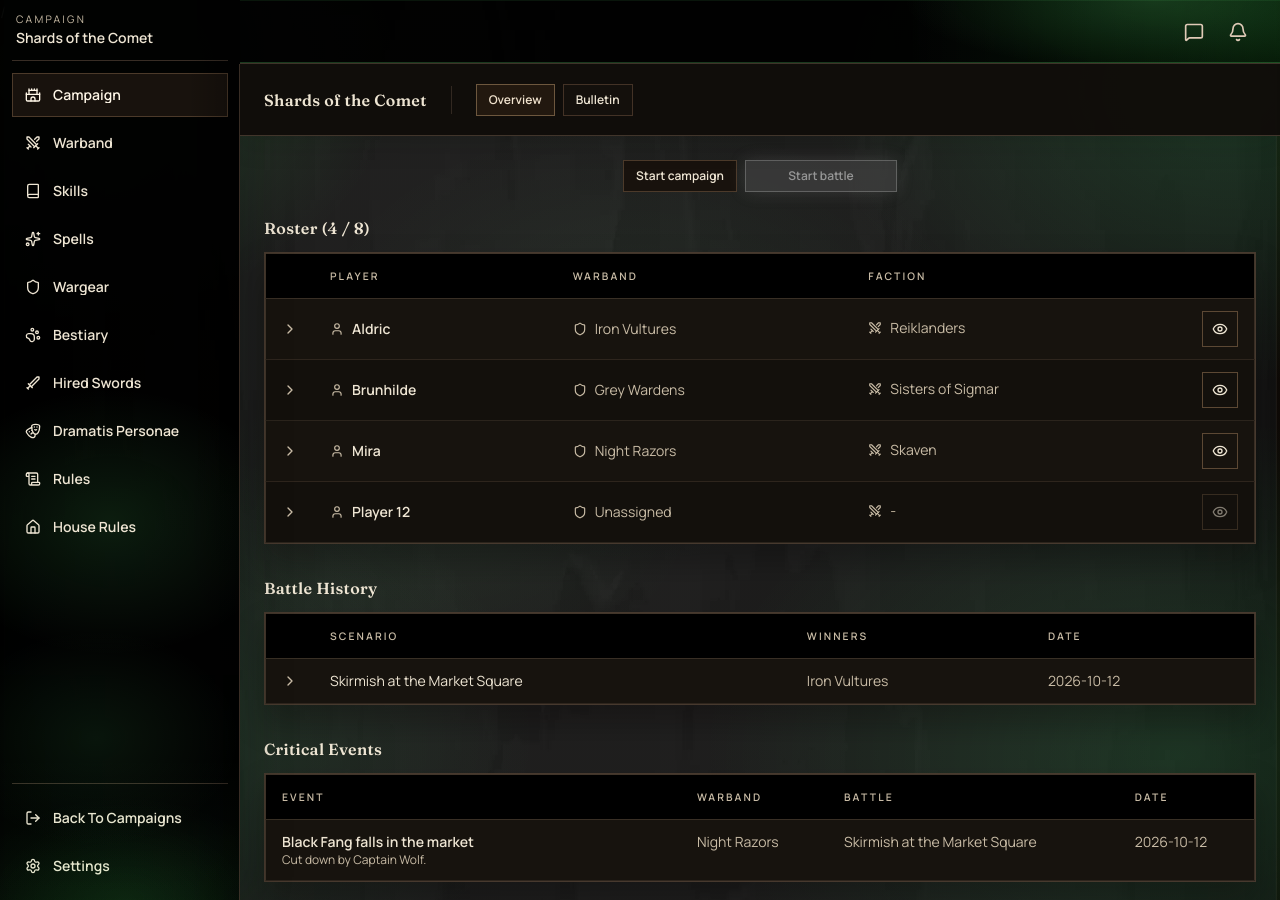
Test: Start campaign › asks before a battle ahead of the start, then creates it and shows the server's campaign_not_started warning (decision 3)
Expected: the heading "Roster (4 / 8)" is shown, [264,218,370,238]
Expected: the button "Aldric" is shown, [330,319,390,339]
Click the button "Start battle".
click(821, 176)  # box [745,160,897,192]
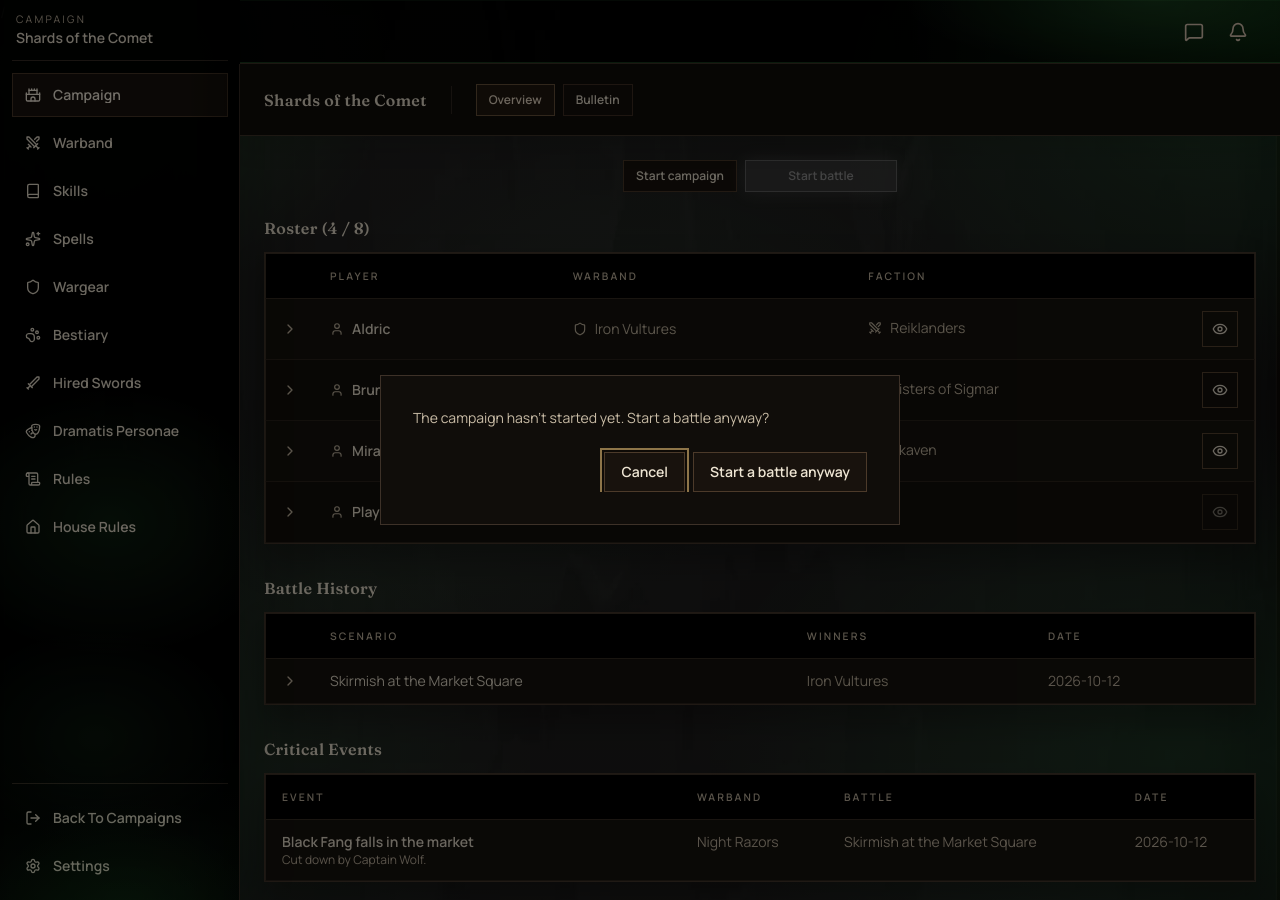
Click the button "Start a battle anyway".
click(780, 472)  # box [693,452,867,492]
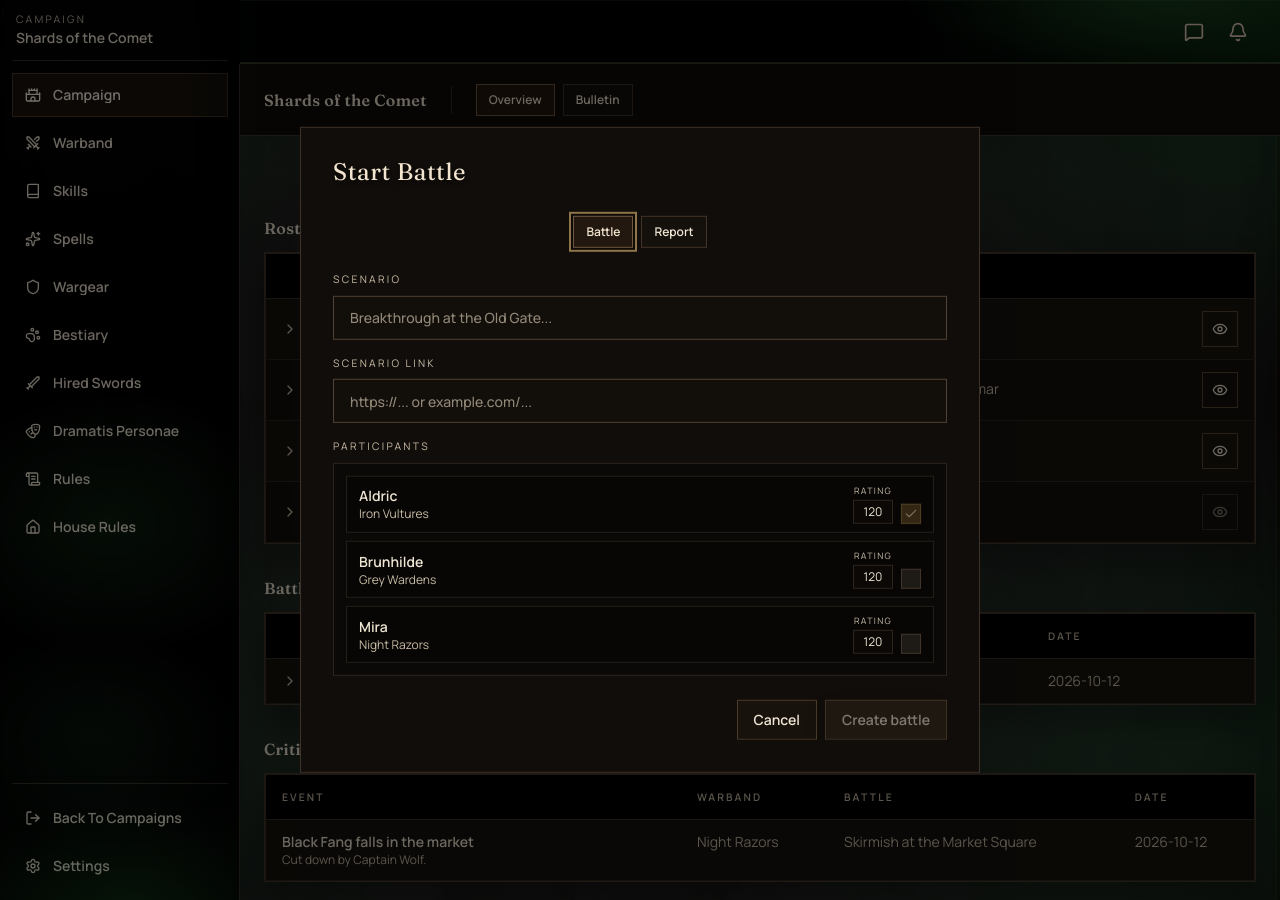
Click the 3rd checkbox.
click(911, 644)  # box [901,634,921,654]
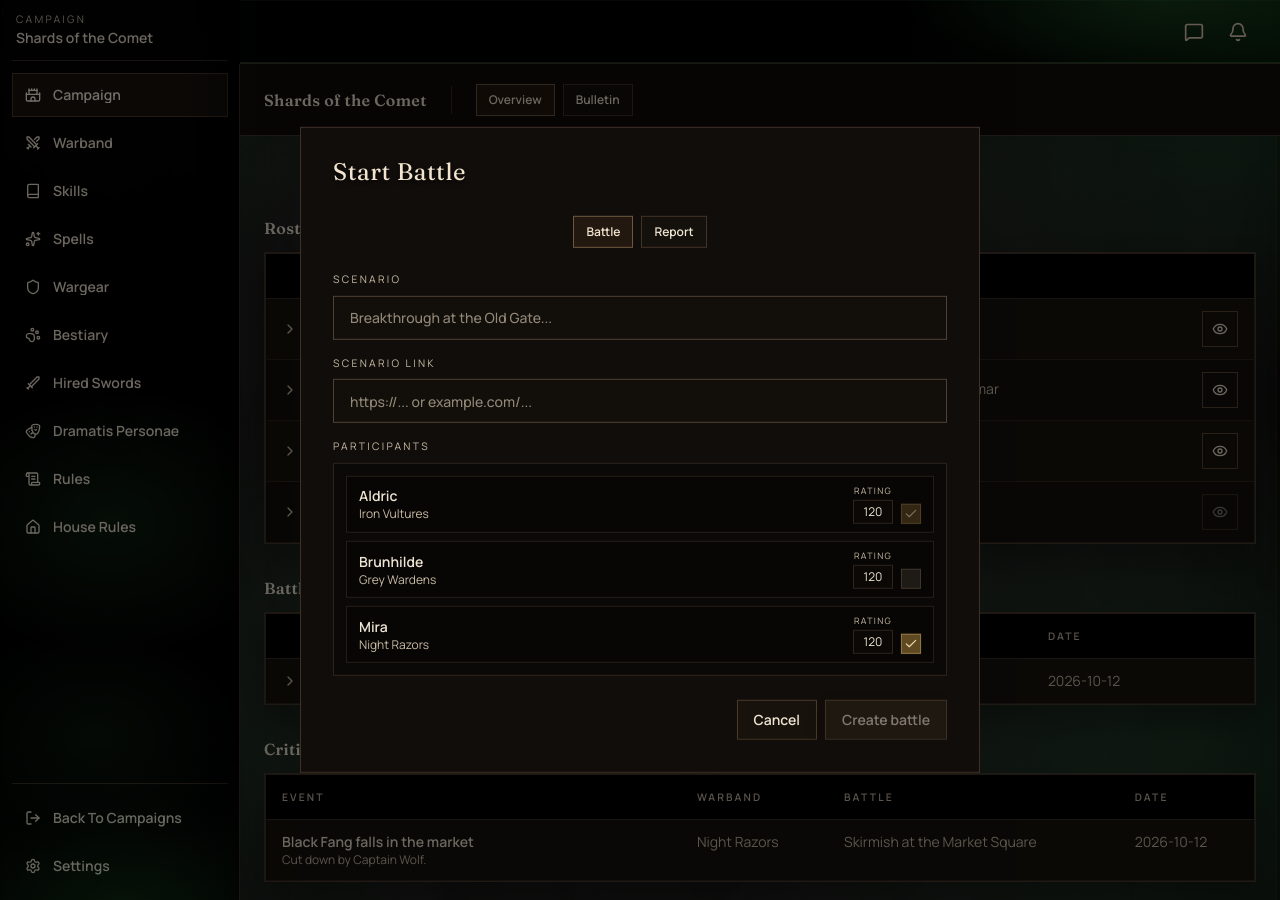
Type "Ford" into the field with placeholder "Breakthrough at the Old Gate...".
click(640, 317); type("Ford")  # box [333,295,947,339]
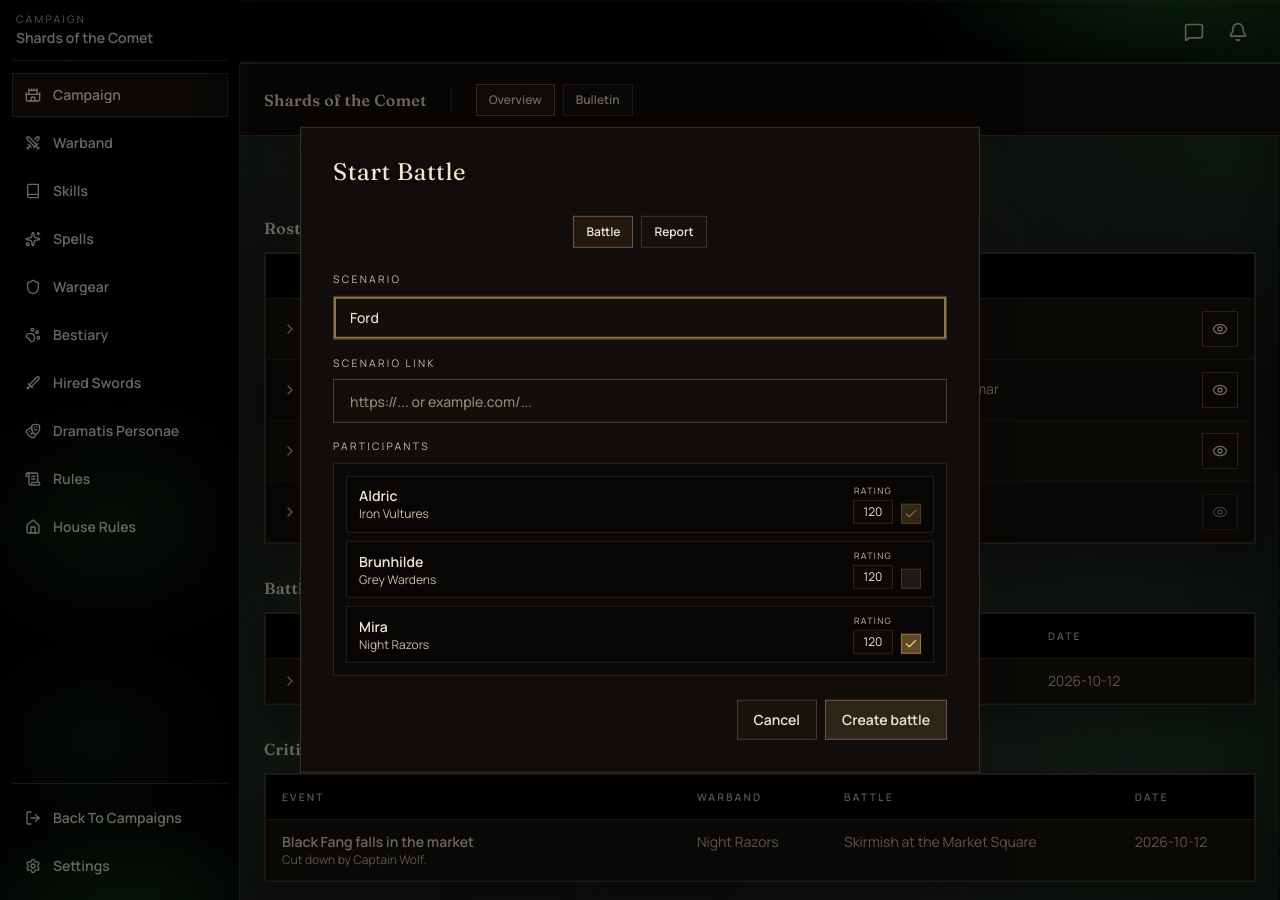
Click the button "Create battle".
click(886, 720)  # box [825,700,947,740]
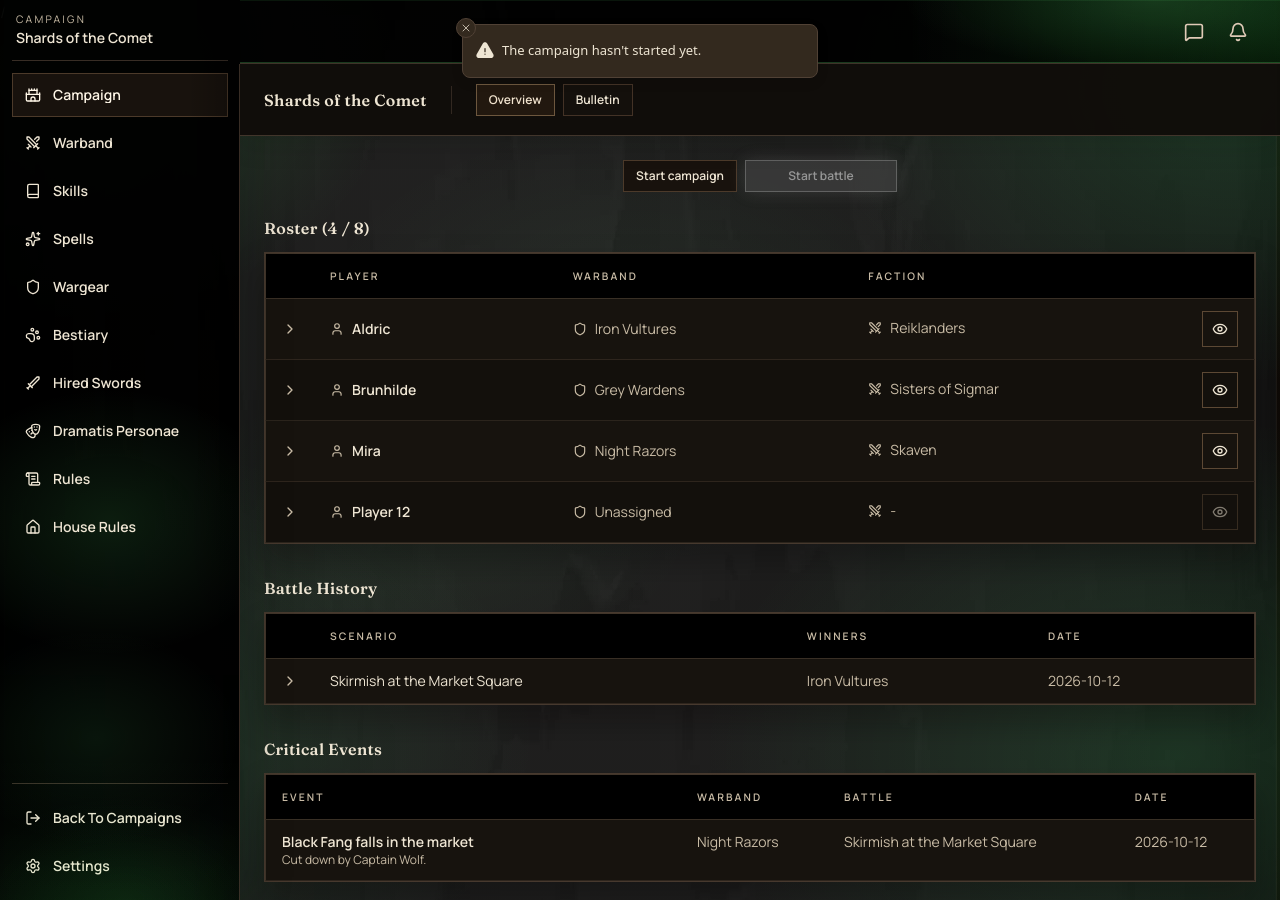
Expected: the text "The campaign hasn't started yet." is shown, [502,41,701,60]
